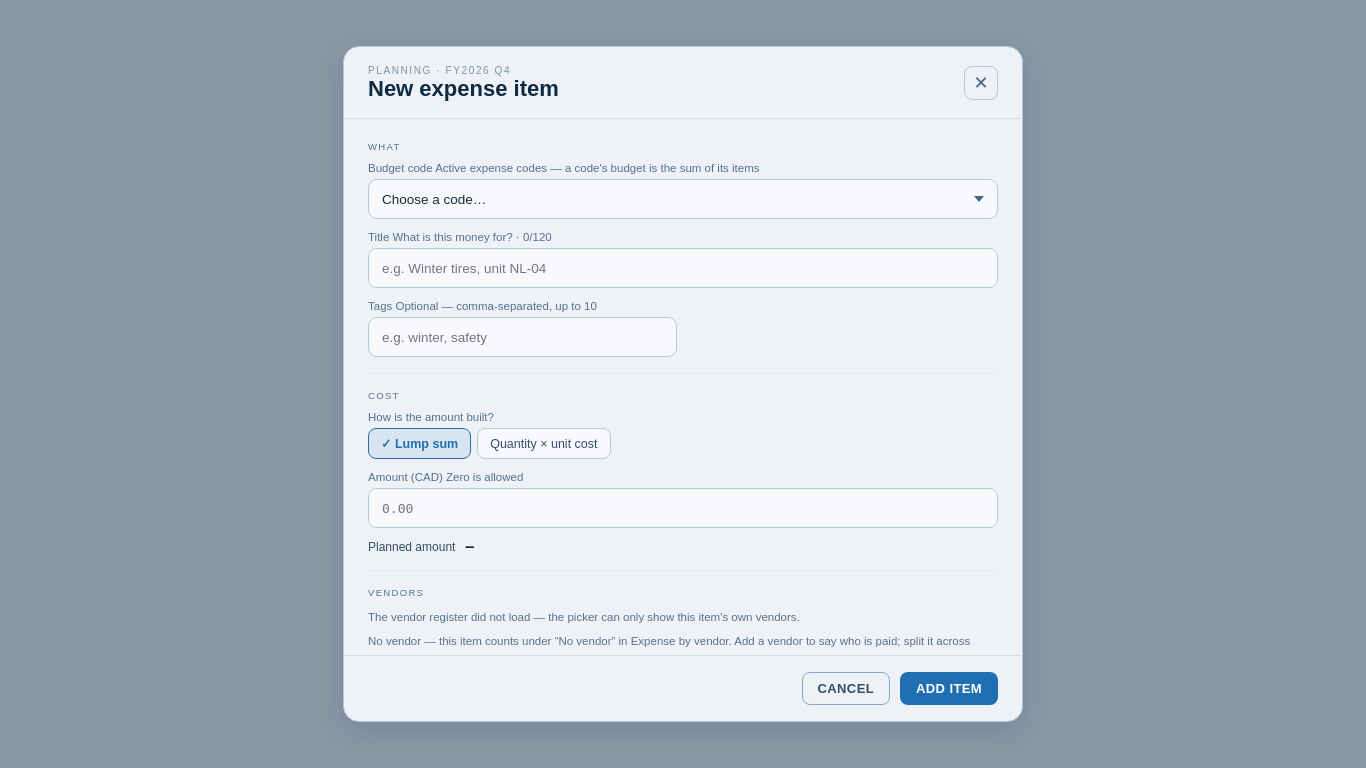
Test: BudgetItemFormModal — save › asks for a code when the section-level add has several to choose from
Type "Diesel" into the field with placeholder "e.g. Winter tires, unit NL-04" at (683, 268), box x1=368 y1=248 x2=998 y2=288
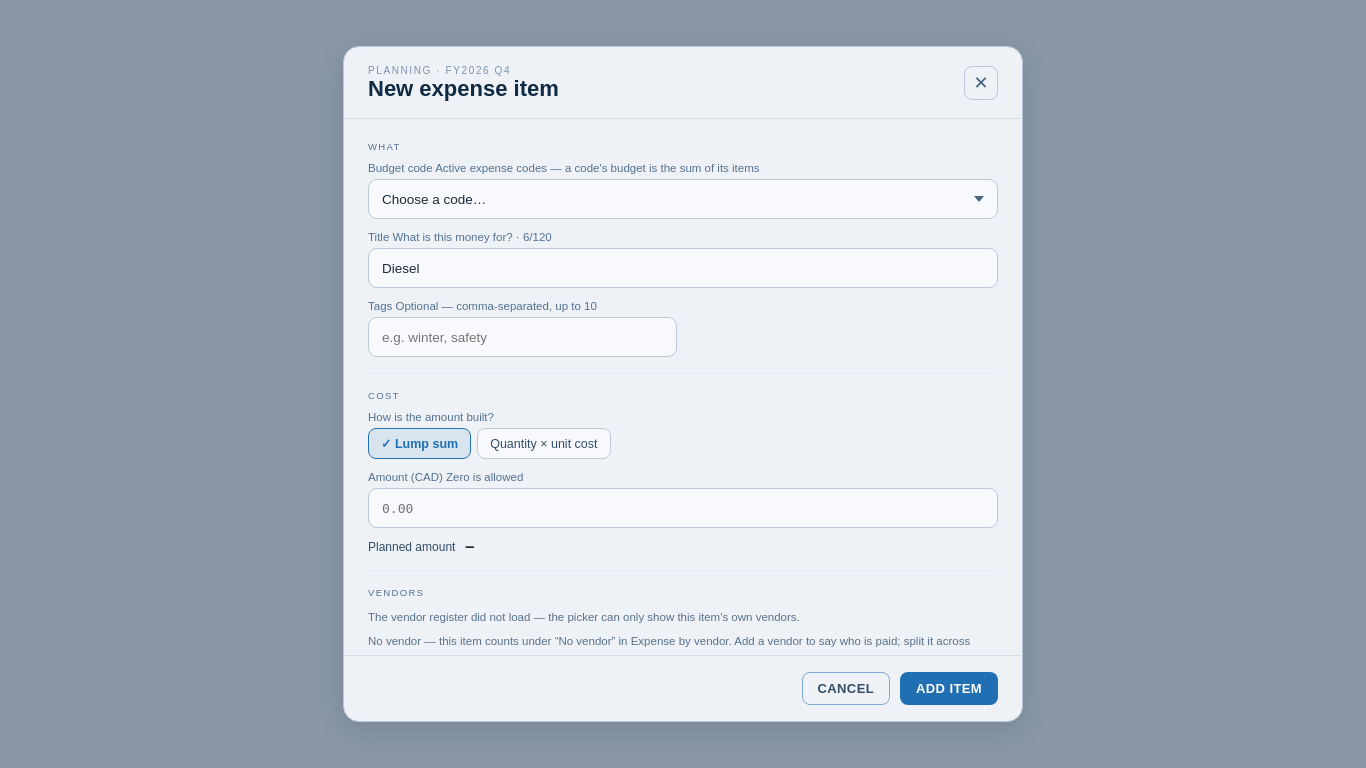
Click the text "ADD ITEM" at (949, 688), box x1=900 y1=672 x2=998 y2=705
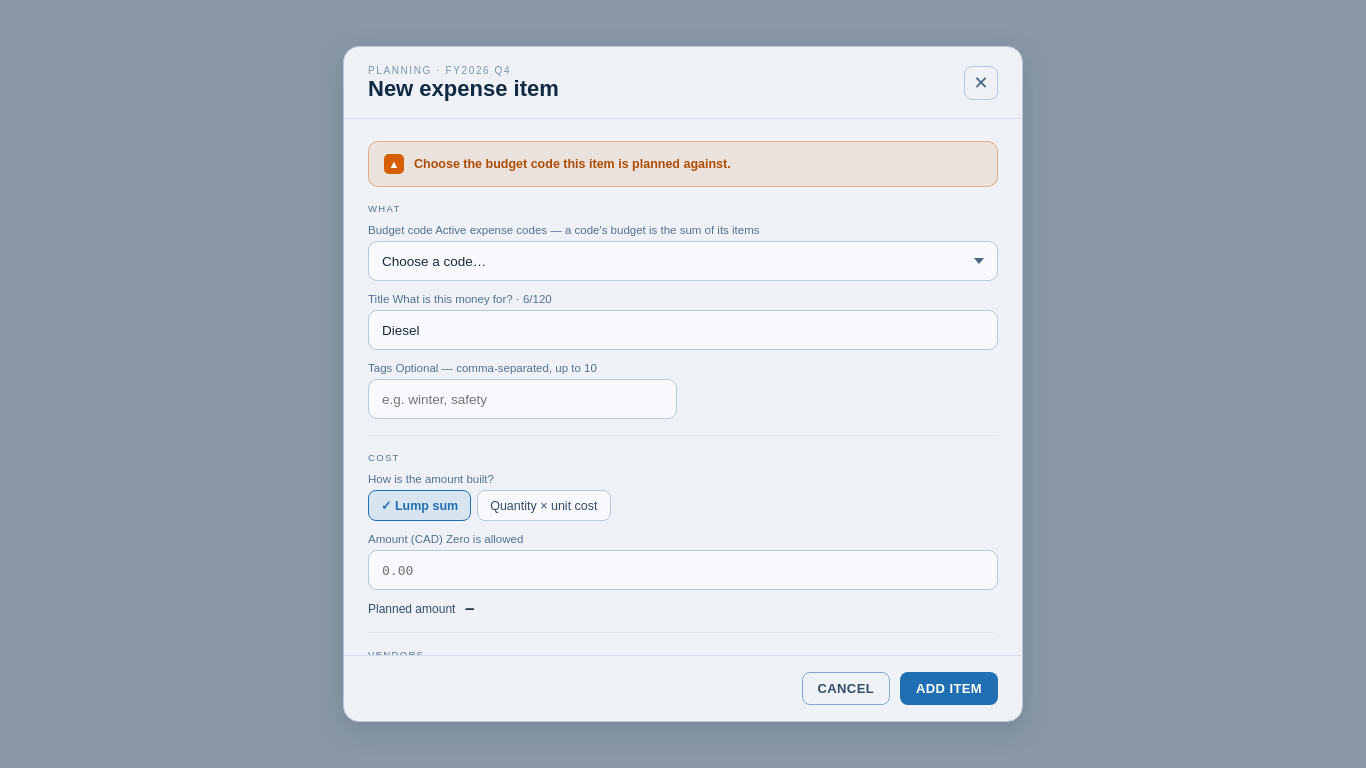
expect the text "Choose the budget code this item is planned against." is shown: met, box x1=414 y1=157 x2=731 y2=171
